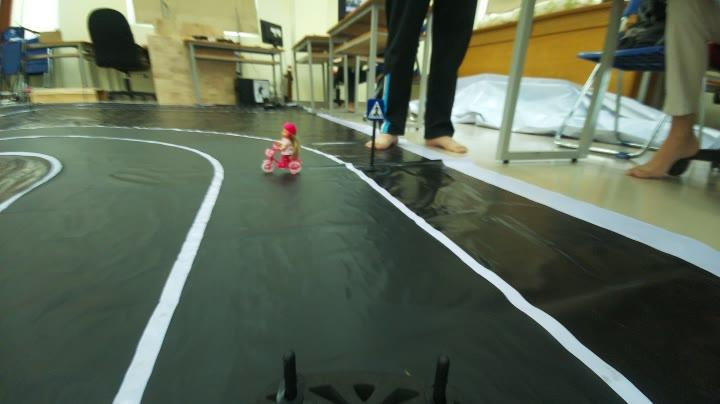crosswalk: (360, 97, 391, 126)
pedestrian: (246, 122, 311, 178)
